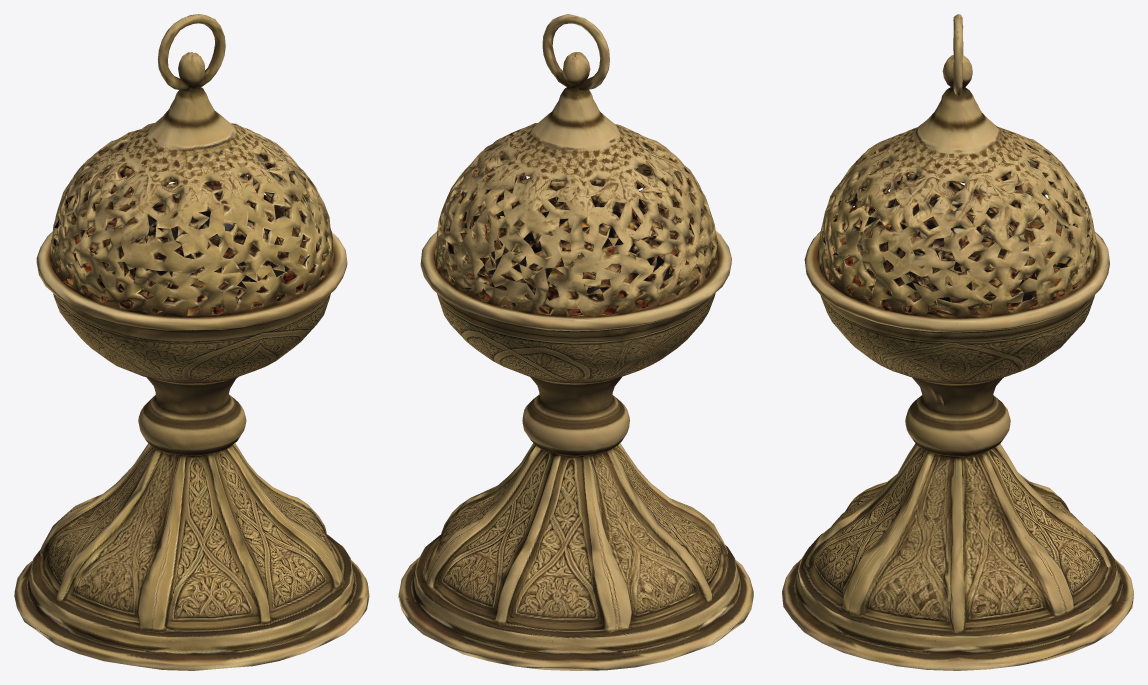
The model's file is Meshy_AI_Golden_Lattice_Incens_0721143701_texture.fbx.
3 views of the same model, side by side, from view 1: azimuth 30°, elevation 25°; view 2: azimuth 150°, elevation 25°; view 3: azimuth 270°, elevation 25° (orthographic).
Visible parts, largest first — view 1: Mesh_0; view 2: Mesh_0; view 3: Mesh_0.
Boxes of the visible parts, x1,y1,x2,y2 form: Mesh_0: (14, 14, 369, 670); Mesh_0: (398, 14, 753, 670); Mesh_0: (782, 14, 1133, 670).
Size of the model in its own units: 55.66 by 99.8 by 55.08.
1 material, 1 textured.
